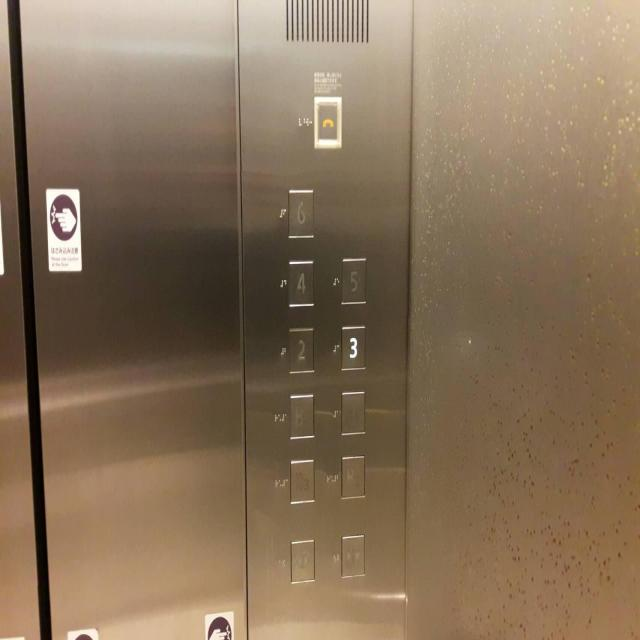2: (287, 325, 315, 376)
3: (339, 323, 366, 374)
4: (286, 258, 314, 309)
5: (340, 256, 367, 307)
6: (286, 186, 316, 242)
B: (288, 392, 316, 442)
B2: (340, 453, 366, 502)
B3: (289, 457, 315, 507)
call: (312, 94, 342, 152)
close: (340, 531, 366, 581)
empty: (339, 388, 366, 438)
open: (289, 537, 316, 585)
